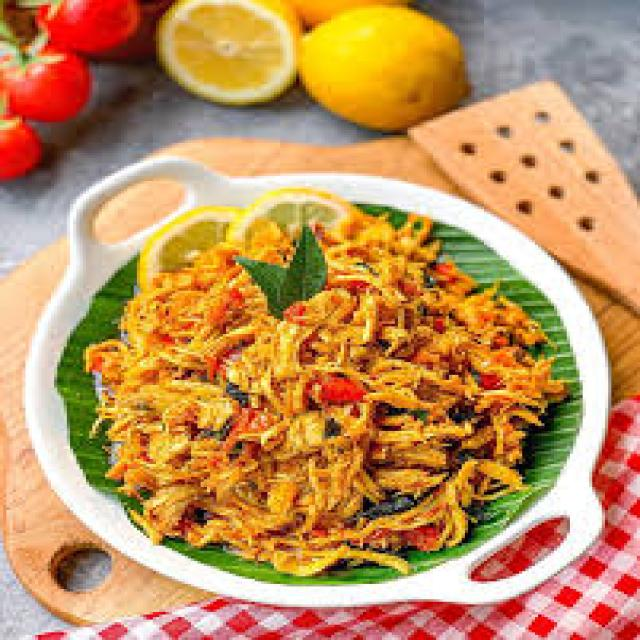ayam_suwir: (106, 179, 562, 558)
